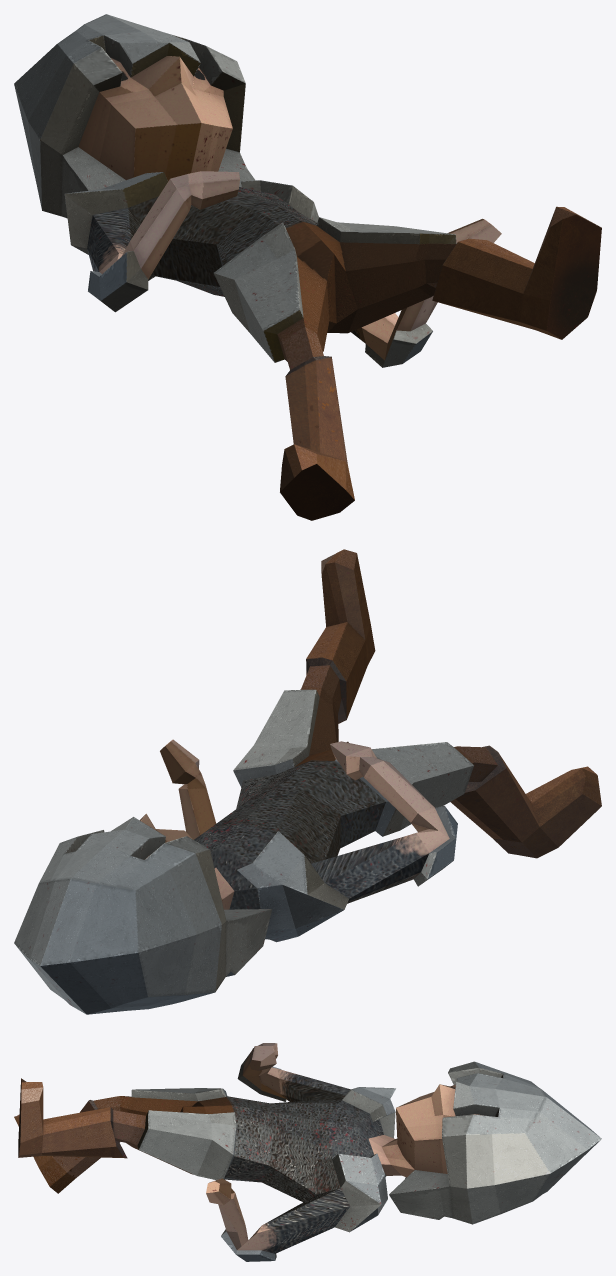
Rendered from Walk_Soldier_19.obj.
3 views of the same model, one above another, from view 1: azimuth 30°, elevation 25°; view 2: azimuth 150°, elevation 25°; view 3: azimuth 270°, elevation 25° (orthographic). The views are drawn at different scales.
Parts seen in each view (by area): view 1: Soldado_LowPolySTD; view 2: Soldado_LowPolySTD; view 3: Soldado_LowPolySTD.
Boxes of the visible parts, bbox=[...] form: Soldado_LowPolySTD: bbox=[14, 14, 601, 520]; Soldado_LowPolySTD: bbox=[14, 549, 601, 1014]; Soldado_LowPolySTD: bbox=[14, 1043, 601, 1261].
Size of the model in its own units: 0.7697 by 0.5516 by 1.6.
